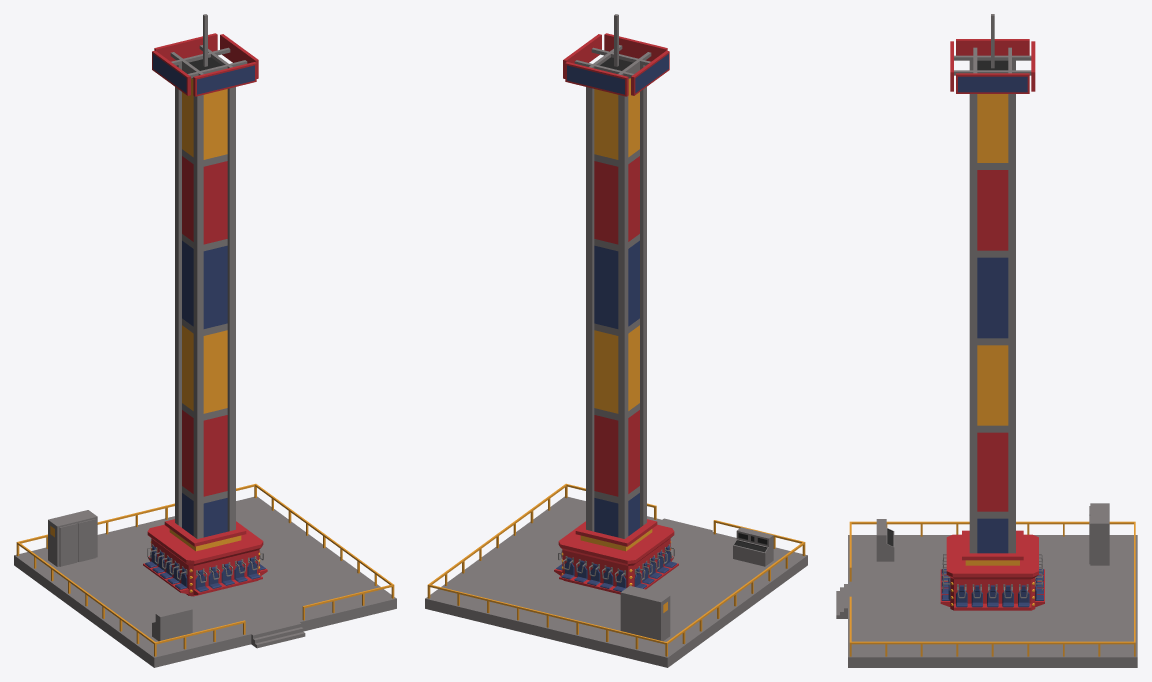
File: free-fall-ride.glb
3 views of the same model, side by side, from view 1: azimuth 30°, elevation 25°; view 2: azimuth 150°, elevation 25°; view 3: azimuth 270°, elevation 25° (orthographic). The views are drawn at different scales.
Parts seen in each view (by area): view 1: free-fall-rides, free-fall-seats; view 2: free-fall-rides, free-fall-seats; view 3: free-fall-rides, free-fall-seats.
Boxes of the visible parts, x1=… form: free-fall-rides: x1=14, y1=14, x2=396, y2=667; free-fall-seats: x1=143, y1=519, x2=267, y2=596; free-fall-rides: x1=425, y1=14, x2=807, y2=667; free-fall-seats: x1=554, y1=519, x2=678, y2=594; free-fall-rides: x1=836, y1=14, x2=1137, y2=667; free-fall-seats: x1=940, y1=530, x2=1044, y2=610.
Bounding box in the file's own units: 15 × 33.8 × 15.6.
1 material, 1 textured.
